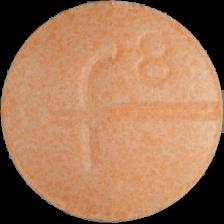55700-309: (0, 0, 224, 224)
